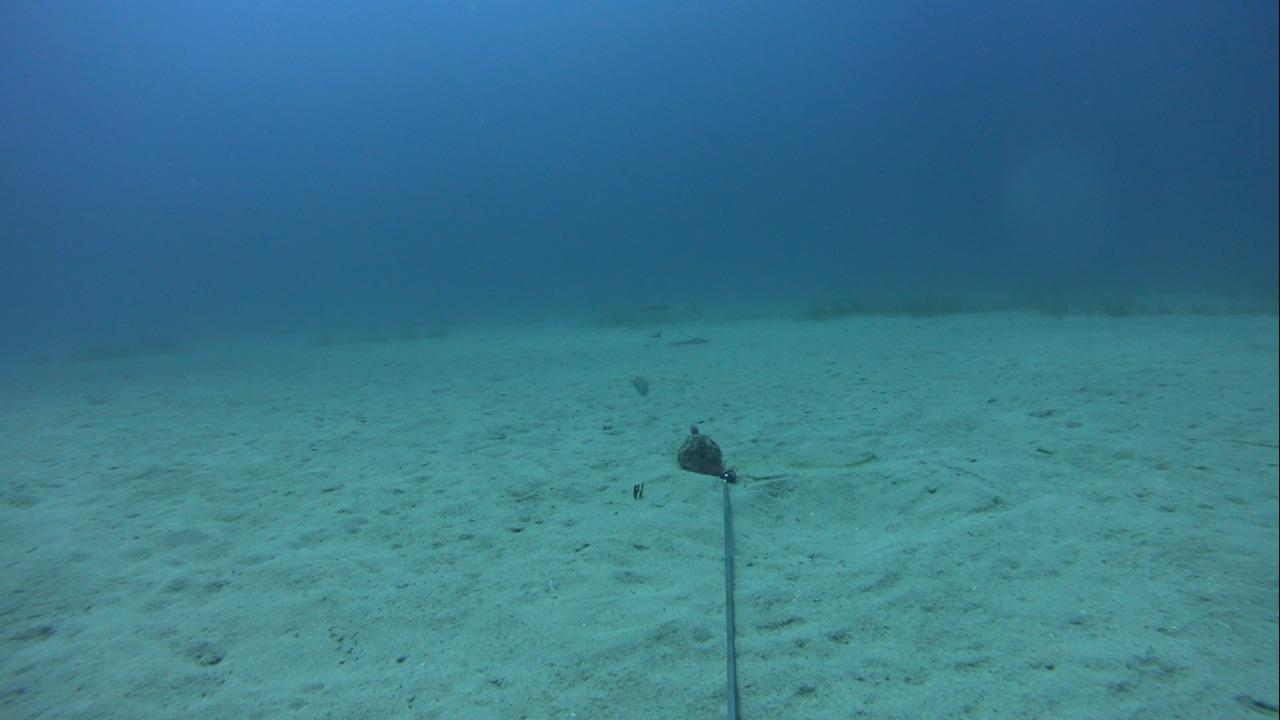myliobatis: (581, 290, 714, 333)
raor: (618, 368, 655, 402)
